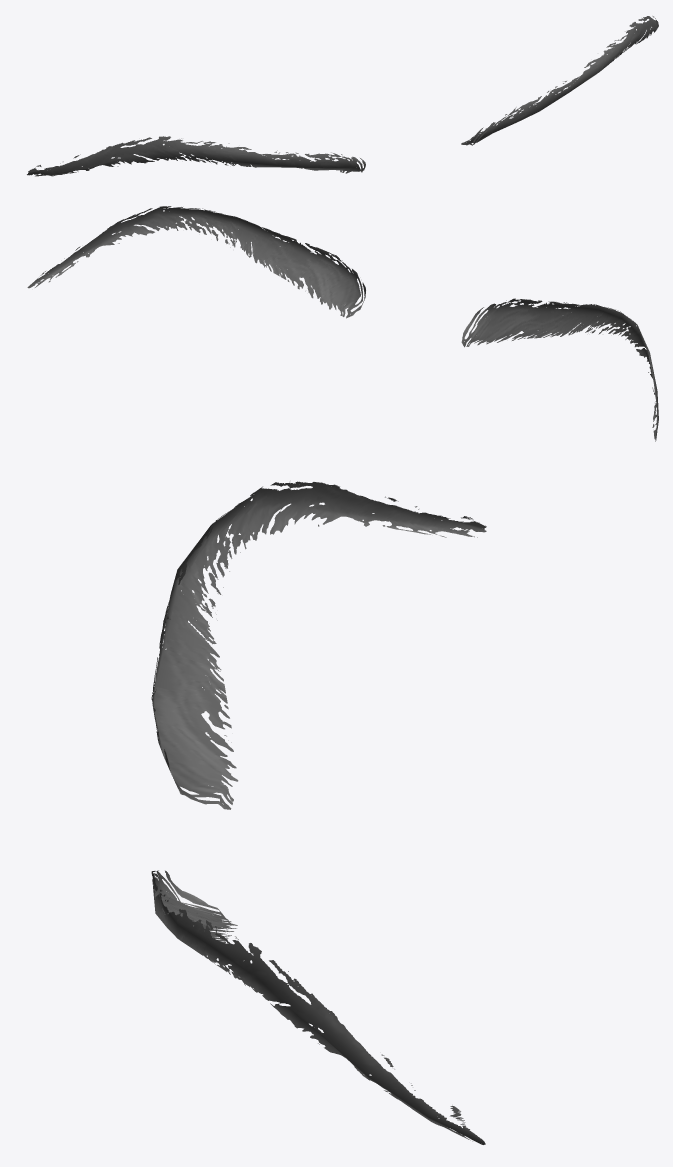
The model's file is brow002.glb.
3 views of the same model, one above another, from view 1: azimuth 30°, elevation 25°; view 2: azimuth 150°, elevation 25°; view 3: azimuth 270°, elevation 25° (orthographic). The views are drawn at different scales.
Parts seen in each view (by area): view 1: editor_brow002; view 2: editor_brow002; view 3: editor_brow002.
Part boxes in pixels (bbox=[...]): editor_brow002: bbox=[27, 16, 658, 176]; editor_brow002: bbox=[27, 206, 658, 441]; editor_brow002: bbox=[151, 481, 486, 1144].
Size of the model in its own units: 0.1171 by 0.0134 by 0.0294.
Materials: 1 (1 with a texture image).
